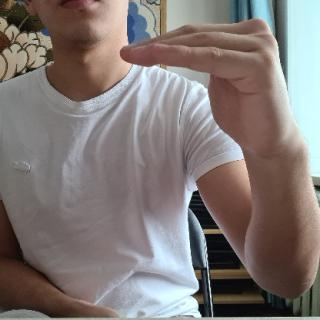HAA: (117, 16, 308, 162)
